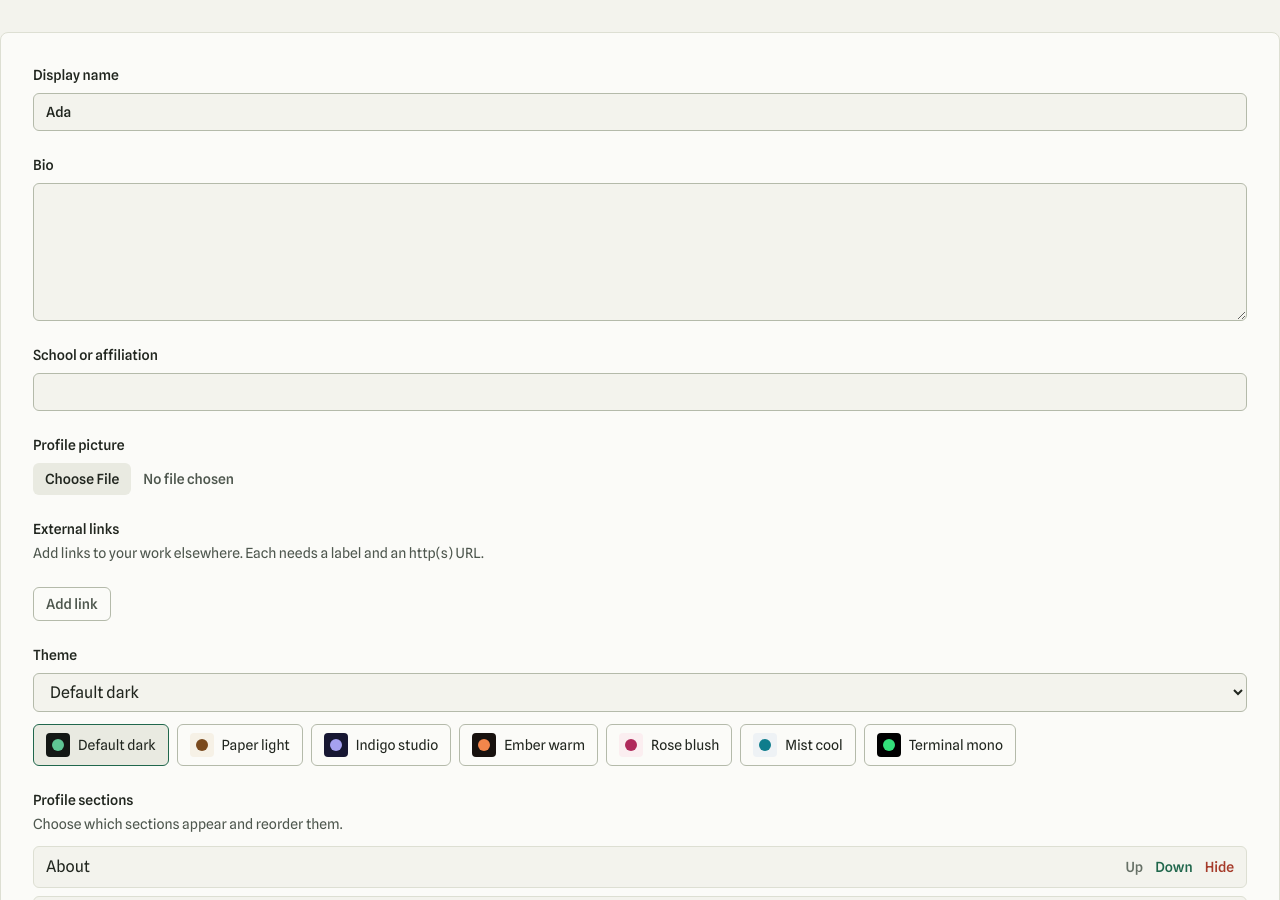
the external links row form › appends an editable row when Add link is clicked
Click the button "Add link". click: (72,604)
box: 33,587 -> 111,621
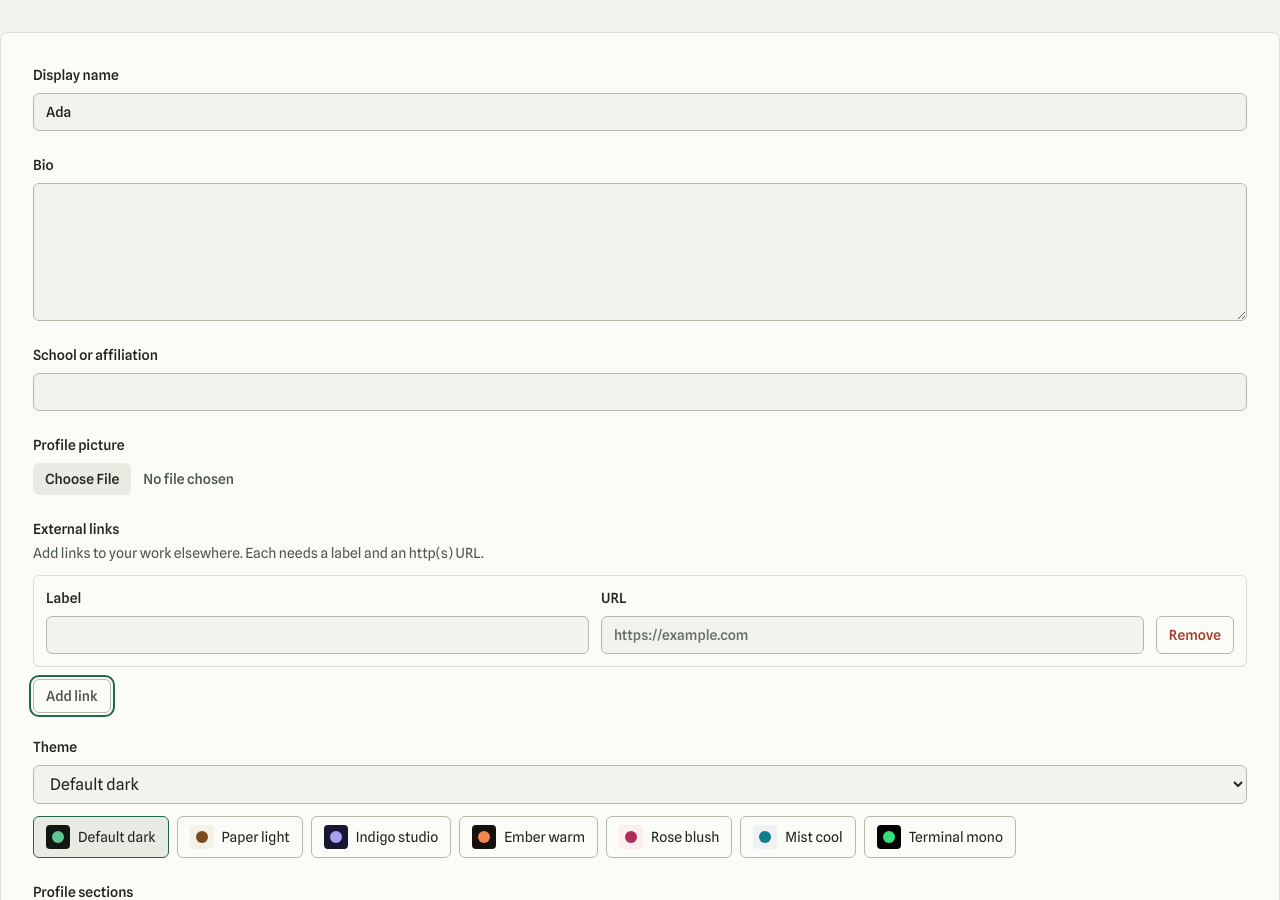
Expected: the field labelled "Label" is shown, 46,616 -> 589,654
Expected: the field labelled "URL" is shown, 601,616 -> 1144,654
